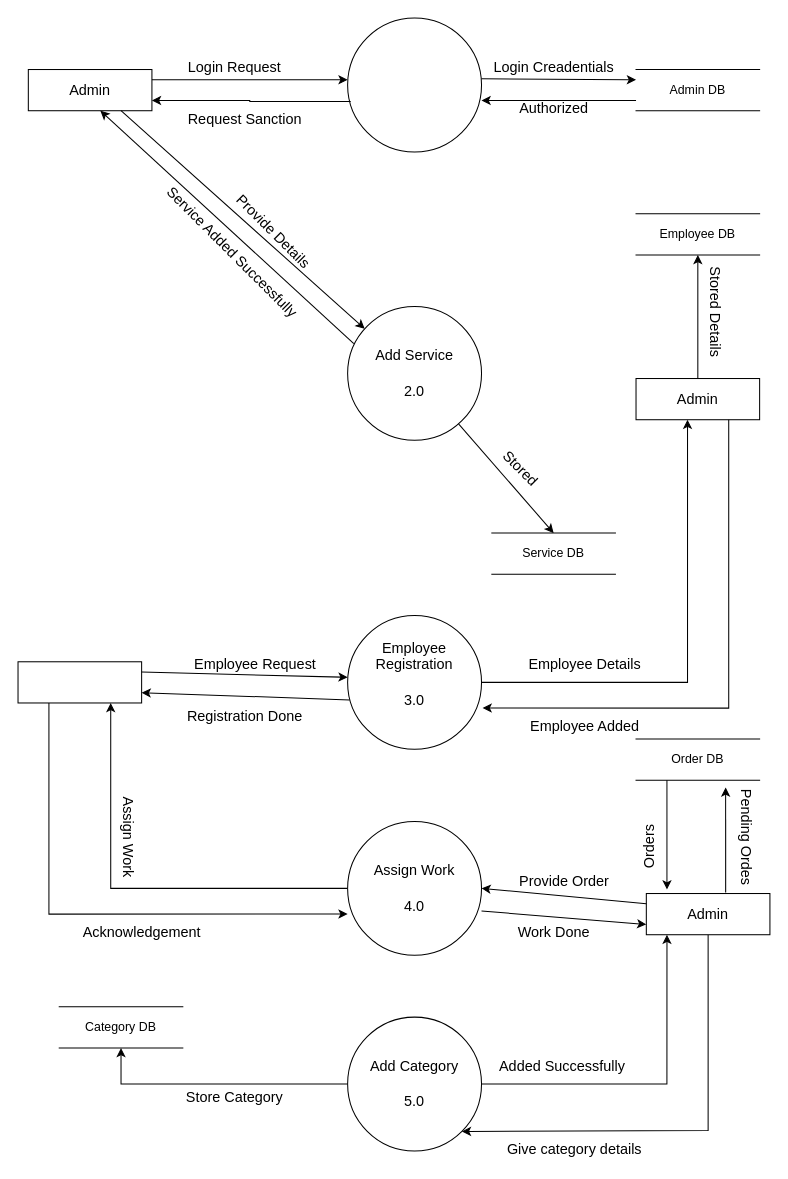
The diagram is 788 pixels wide and 1179 high, and some of its shapes have lost their labels. Here are the shapes that lost their labels. From the top down, the centre of each, then its label:
At point 414,84: "Login 1.0".
At point 79,682: "Employee".
